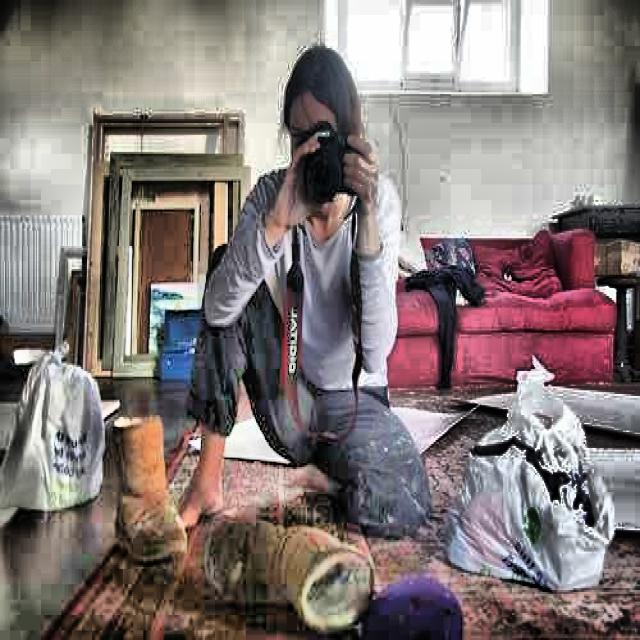Plastic: (448, 388, 610, 601), (7, 341, 103, 518)
